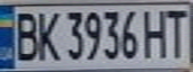3: (60, 7, 84, 61), (100, 7, 121, 60)
6: (118, 7, 142, 60)
9: (81, 8, 103, 62)
B: (9, 8, 42, 62)
H: (139, 6, 172, 60)
K: (33, 7, 60, 62)
T: (160, 6, 193, 60)
